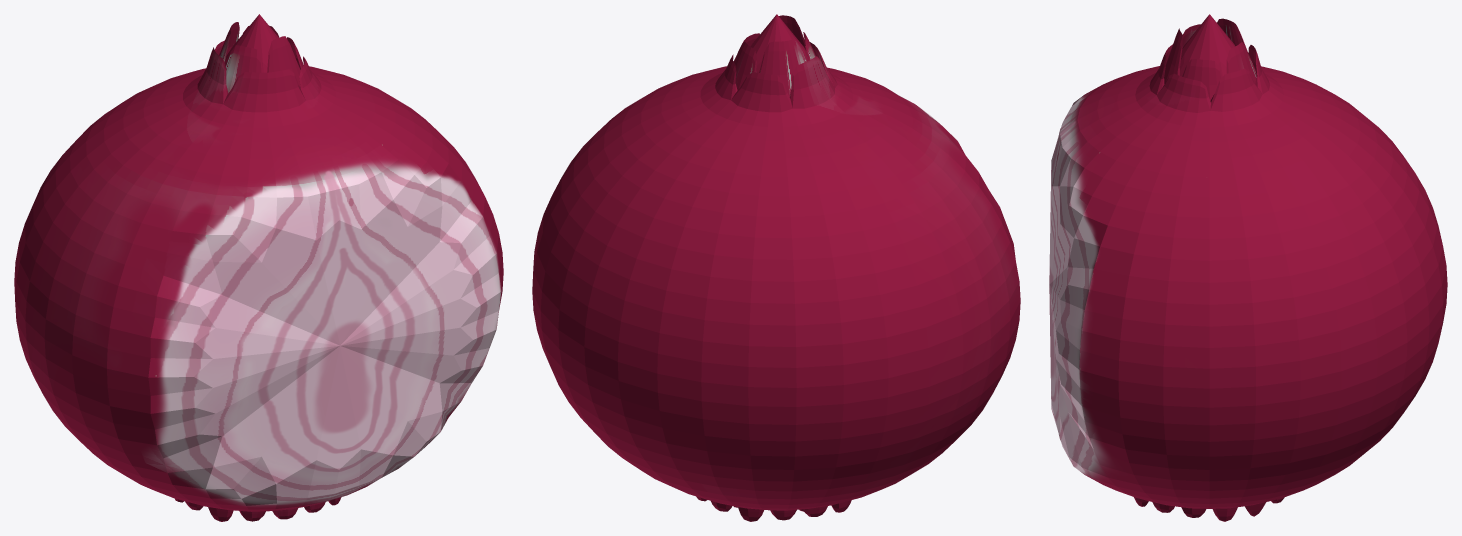
File: onionHalf.fbx
3 renders of one model, left to right at view 1: azimuth 30°, elevation 25°; view 2: azimuth 150°, elevation 25°; view 3: azimuth 270°, elevation 25°, orthographic.
Visible parts, largest first — view 1: Sphere; view 2: Sphere; view 3: Sphere.
Boxes of the visible parts, x1,y1,x2,y2 form: Sphere: (14, 14, 503, 521); Sphere: (532, 14, 1020, 521); Sphere: (1049, 14, 1447, 521).
Bounding box in the file's own units: 404 × 429 × 327.
